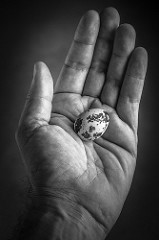palm: (44, 96, 132, 213)
